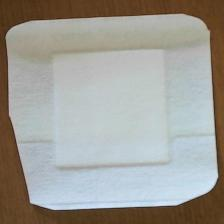Cut: (3, 9, 221, 217)
